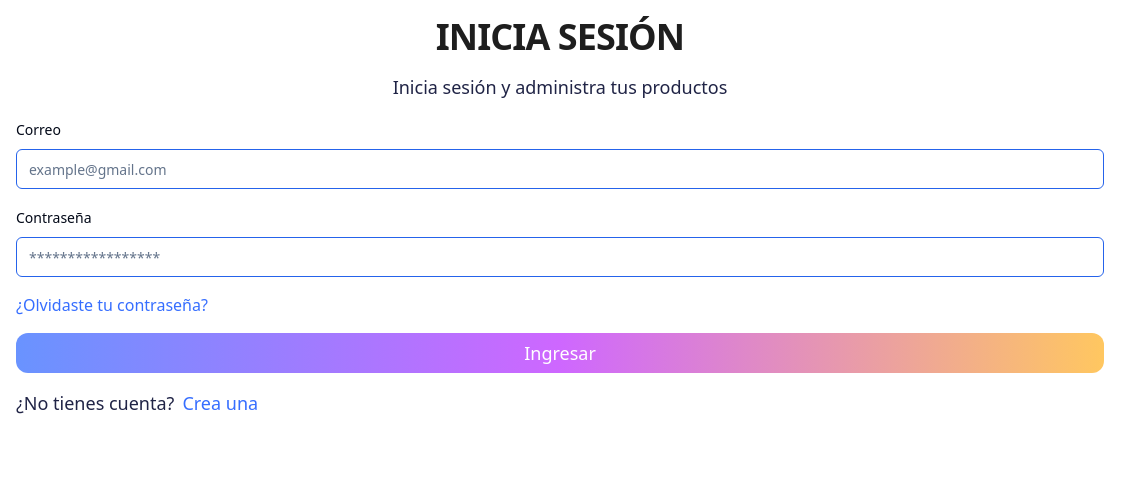
Test case: Pruebas en Login Page › Debe de mostrar errores si los datos son invalidos
Type "qKqXG" into the field with test id "email-input" at {"x": 560, "y": 169}, box [16,149,1104,189]
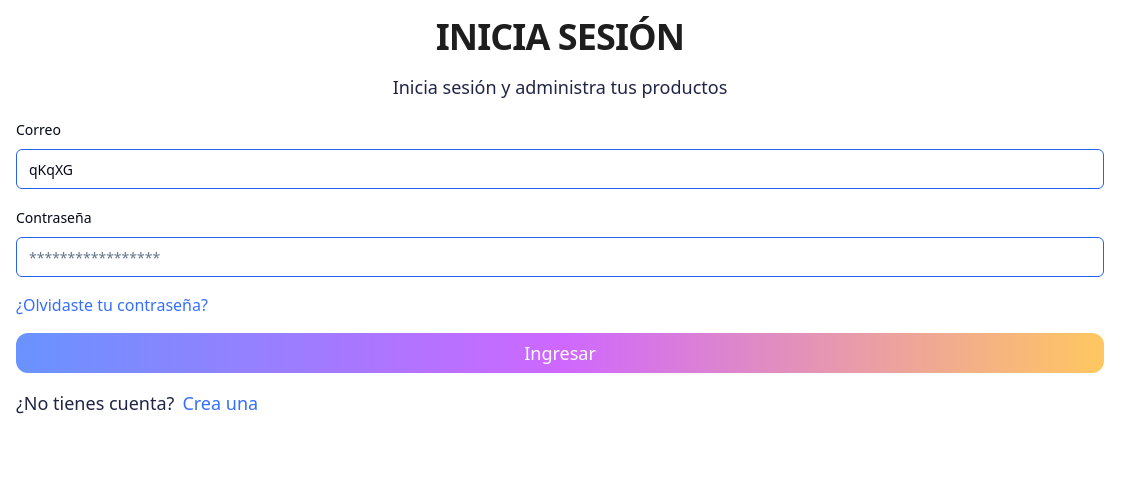
Type "1234" into the password field with test id "password-input" at {"x": 560, "y": 257}, box [16,237,1104,277]
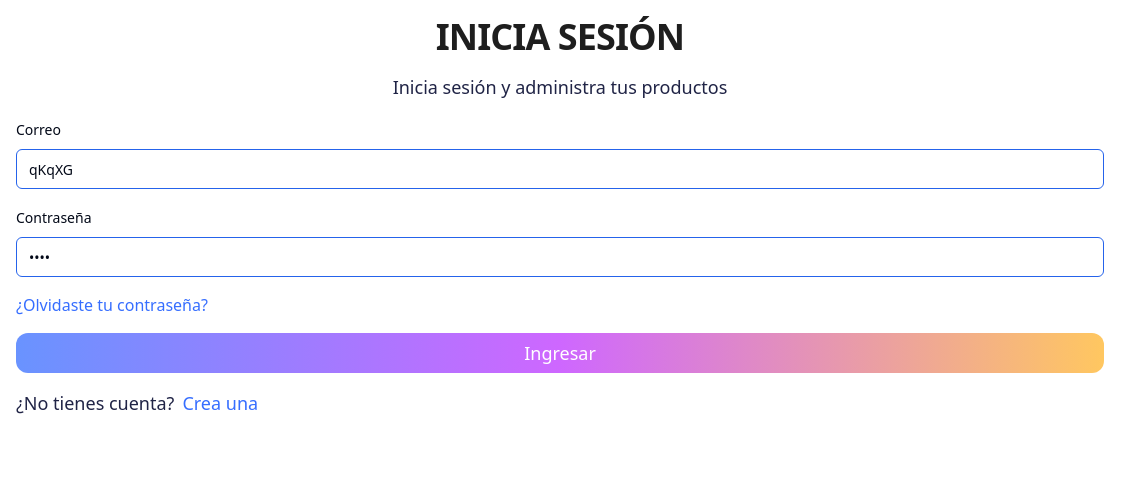
Click the button with test id "login-button" at {"x": 560, "y": 353}, box [16,333,1104,373]
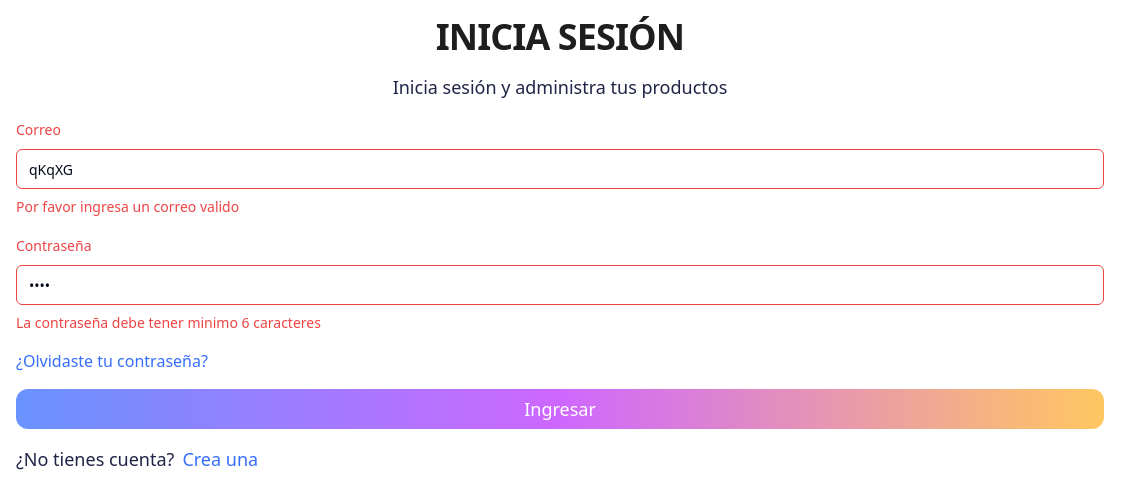
Check: the text "Por favor ingresa un correo valido" is shown, box [16,197,239,216]
Check: the text "La contraseña debe tener minimo 6 caracteres" is shown, box [16,313,321,332]
